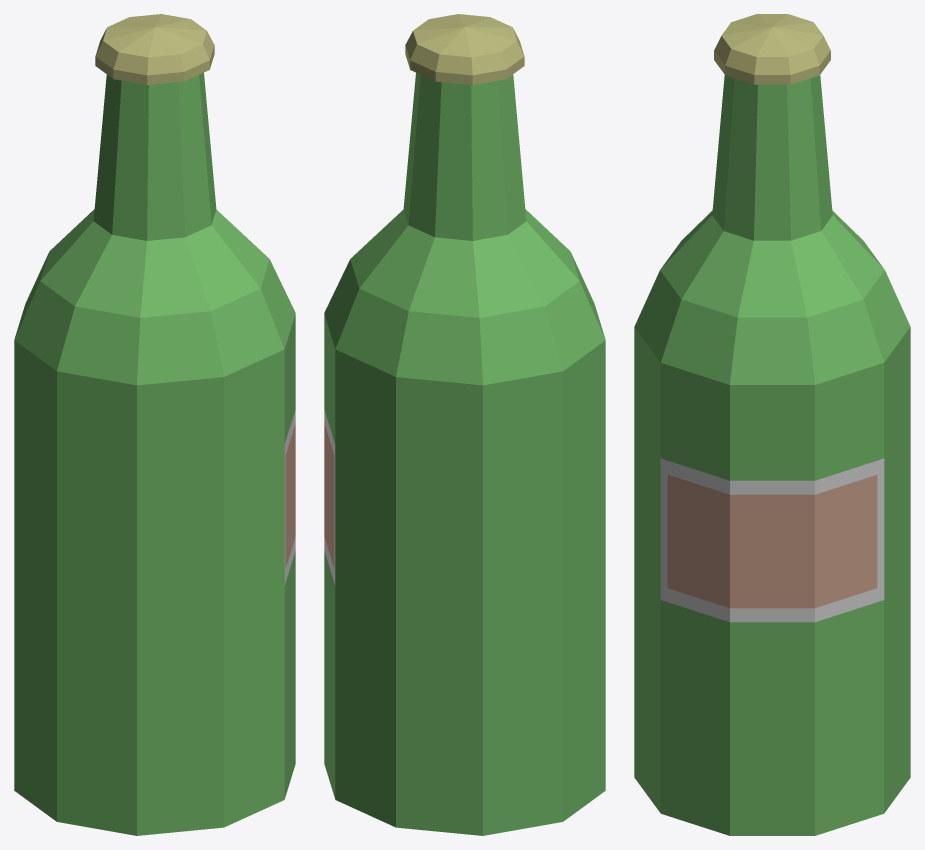
The model's file is Bottle1.fbx.
The picture shows the model from 3 angles, left to right: view 1: azimuth 30°, elevation 25°; view 2: azimuth 150°, elevation 25°; view 3: azimuth 270°, elevation 25°; orthographic projection.
Visible parts, largest first — view 1: Cylinder; view 2: Cylinder; view 3: Cylinder.
Part boxes in pixels (x1,y1,x2,y2): Cylinder: [14, 14, 295, 835]; Cylinder: [324, 14, 605, 835]; Cylinder: [634, 14, 910, 835].
Size of the model in its own units: 50 by 150 by 50.
